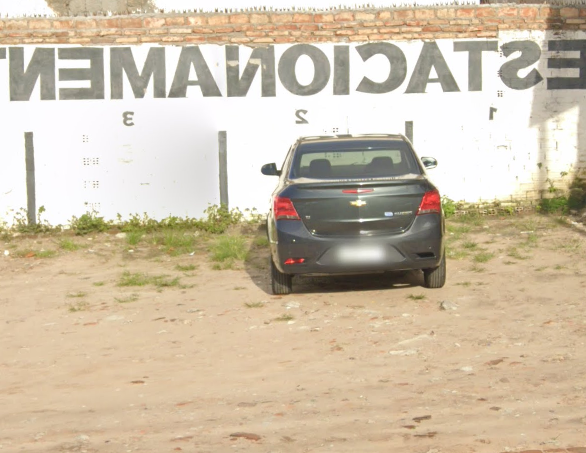car: (258, 129, 453, 304)
